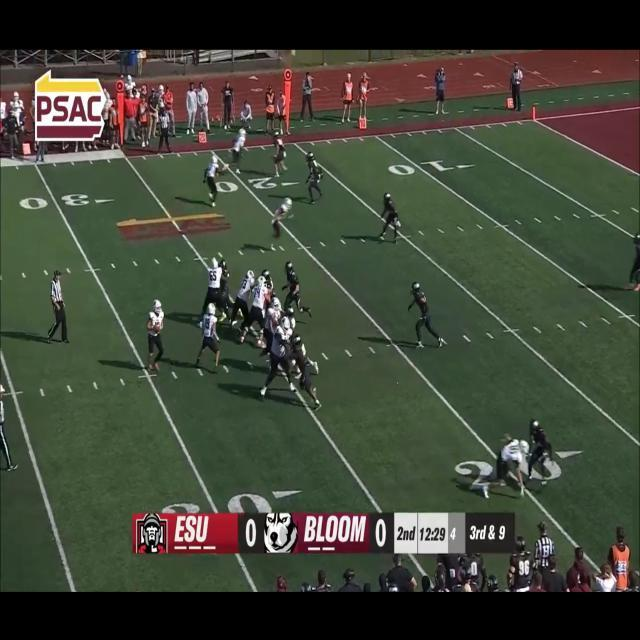football: (154, 322, 162, 336)
